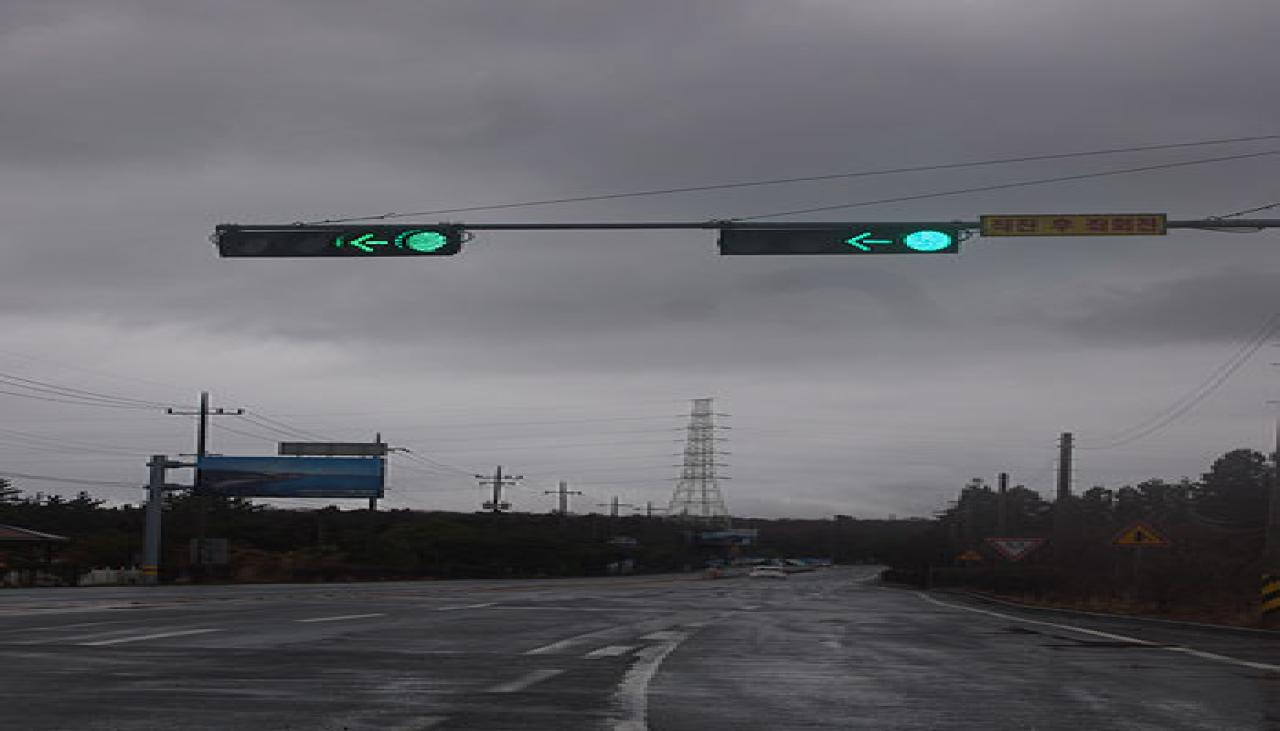Green Light: (396, 227, 458, 256), (902, 227, 957, 254)
Left turn: (330, 226, 393, 256), (835, 227, 898, 254)
